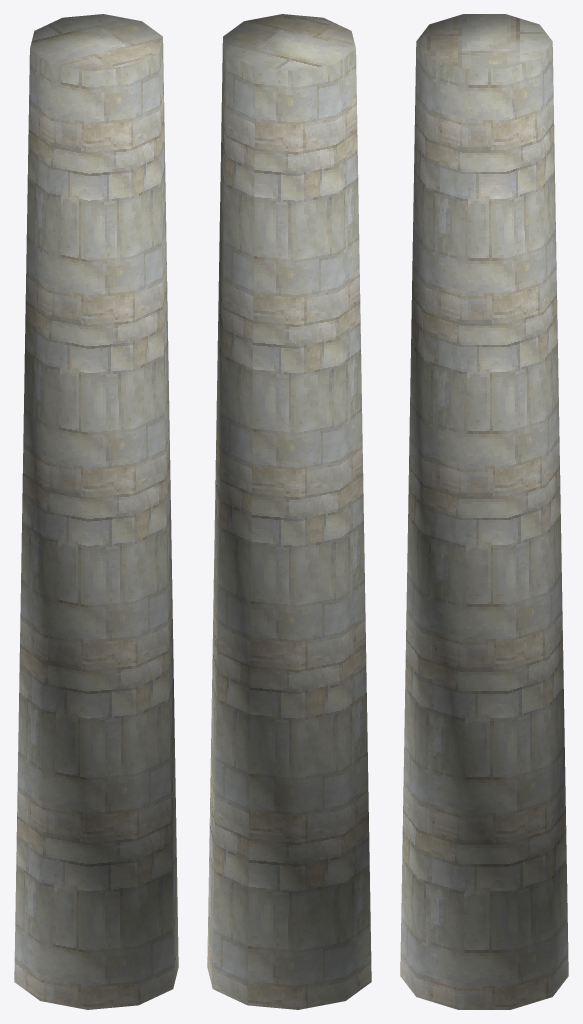
Rendered from tower.fbx.
3 renders of one model, left to right at view 1: azimuth 30°, elevation 25°; view 2: azimuth 150°, elevation 25°; view 3: azimuth 270°, elevation 25°, orthographic.
Visible parts, largest first — view 1: tower; view 2: tower; view 3: tower.
Boxes of the visible parts, x1,y1,x2,y2 form: tower: (14,14,178,1009); tower: (207,14,371,1009); tower: (400,14,568,1009).
Bounding box in the file's own units: 1450 × 9335 × 1525.
